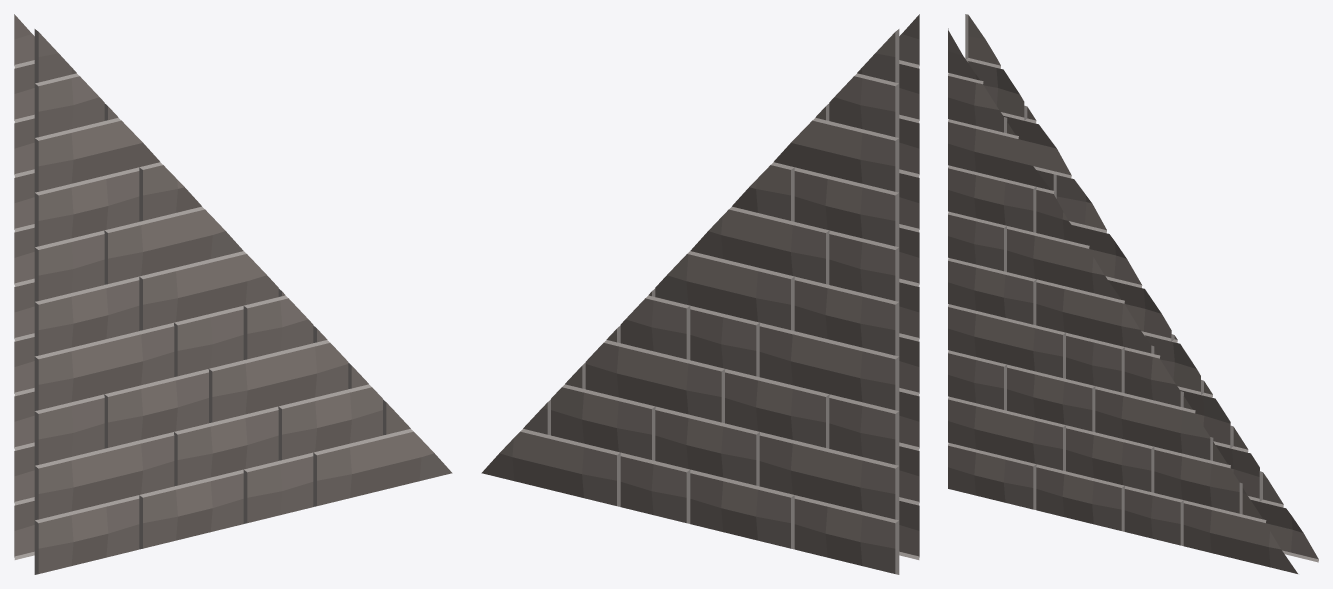
File: WallAngle_Side_4.fbx
The picture shows the model from 3 angles, left to right: view 1: azimuth 30°, elevation 25°; view 2: azimuth 150°, elevation 25°; view 3: azimuth 330°, elevation 25°; orthographic projection. The views are drawn at different scales.
Parts seen in each view (by area): view 1: WallAngle_Side_4; view 2: WallAngle_Side_4; view 3: WallAngle_Side_4.
Boxes of the visible parts, <box> form: WallAngle_Side_4: <box>14,14,452,574</box>; WallAngle_Side_4: <box>481,14,919,574</box>; WallAngle_Side_4: <box>948,14,1318,573</box>.
Size of the model in its own units: 2.4 by 0.28 by 3.
